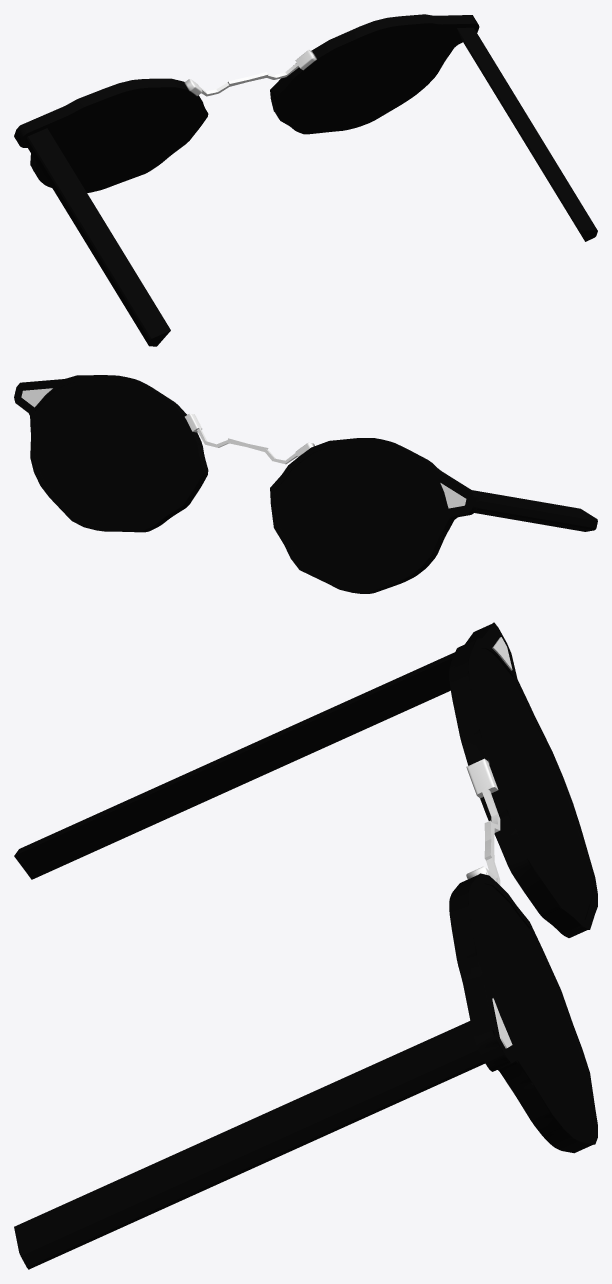
Rendered from 眼镜店.gltf.
3 renders of one model, top to bottom at view 1: azimuth 30°, elevation 25°; view 2: azimuth 150°, elevation 25°; view 3: azimuth 270°, elevation 25°, orthographic. The views are drawn at different scales.
Visible parts, largest first — view 1: node_sunglasses_-54504; view 2: node_sunglasses_-54504; view 3: node_sunglasses_-54504.
Boxes of the visible parts, x1,y1,x2,y2 form: node_sunglasses_-54504: (14,14,597,346); node_sunglasses_-54504: (14,375,597,593); node_sunglasses_-54504: (14,622,597,1269).
Size of the model in its own units: 6.93 by 2.28 by 4.12.
